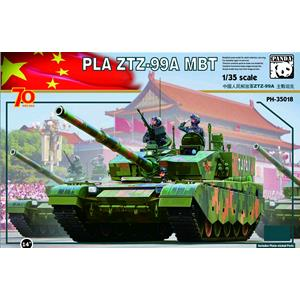Battle Tank: (49, 106, 264, 243)
